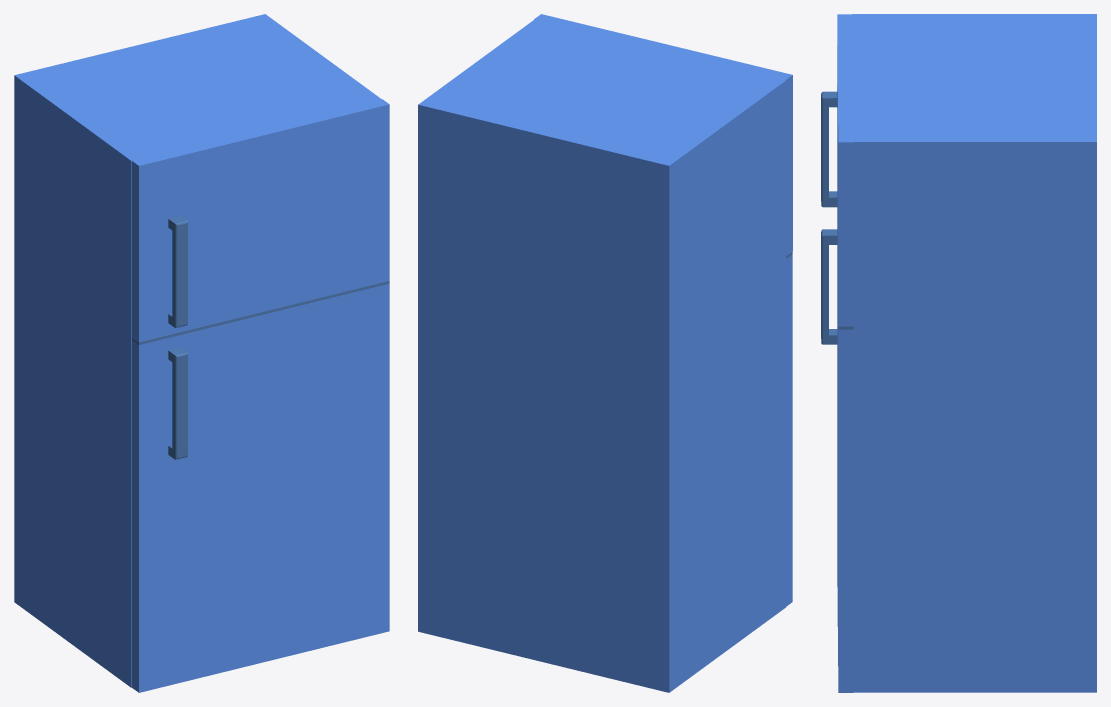
File: refrigerator-with-objects-inside.fbx
3 views of the same model, side by side, from view 1: azimuth 30°, elevation 25°; view 2: azimuth 150°, elevation 25°; view 3: azimuth 270°, elevation 25° (orthographic). The views are drawn at different scales.
Visible parts, largest first — view 1: body.001, door below.001, upper door.001; view 2: body.001, upper door.001, door below.001; view 3: body.001, door below.001, upper door.001.
Boxes of the visible parts, <box> form: body.001: <box>14,14,381,687</box>; door below.001: <box>132,281,389,692</box>; upper door.001: <box>132,99,389,342</box>; body.001: <box>418,19,786,692</box>; upper door.001: <box>534,14,792,255</box>; door below.001: <box>786,251,792,606</box>; body.001: <box>852,14,1096,692</box>; door below.001: <box>821,229,853,692</box>; upper door.001: <box>821,14,853,326</box>.
Size of the model in its own units: 543 by 1086 by 493.
